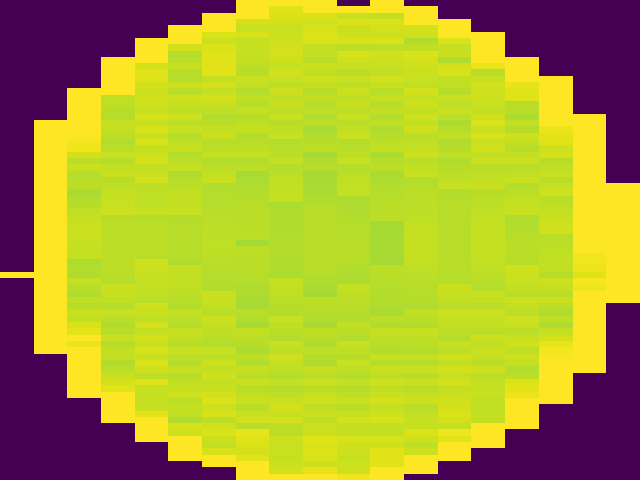sphere: (5, 1, 640, 480)
